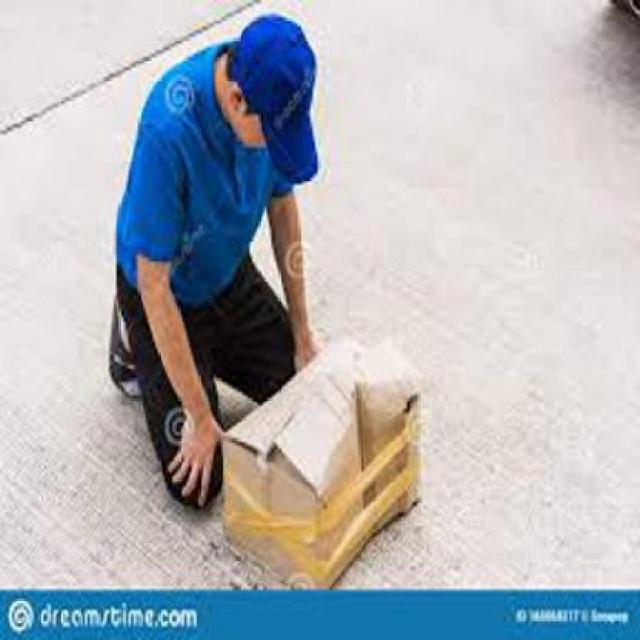defect: (211, 332, 438, 592)
